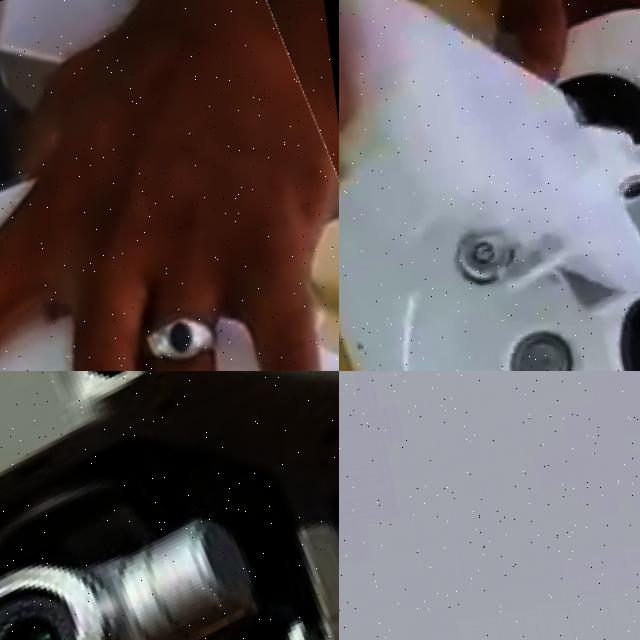drone: (0, 0, 339, 371), (0, 371, 339, 640)
